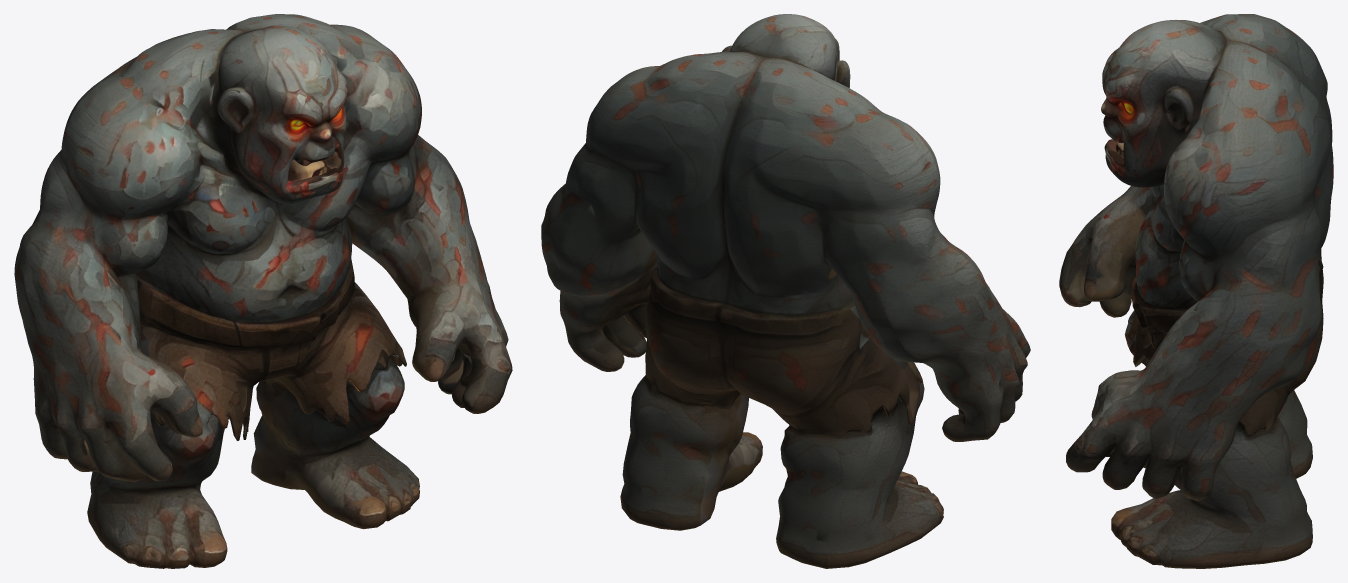
Rendered from Jupiter.glb.
The picture shows the model from 3 angles, left to right: view 1: azimuth 30°, elevation 25°; view 2: azimuth 150°, elevation 25°; view 3: azimuth 270°, elevation 25°; orthographic projection. The views are drawn at different scales.
Visible parts, largest first — view 1: Ogre; view 2: Ogre; view 3: Ogre.
Part boxes in pixels (x1,y1,x2,y2): Ogre: (14,14,512,568); Ogre: (541,14,1030,568); Ogre: (1059,14,1333,568).
Bounding box in the file's own units: 2.35 × 2.5 × 1.27.
1 material, 1 textured.
